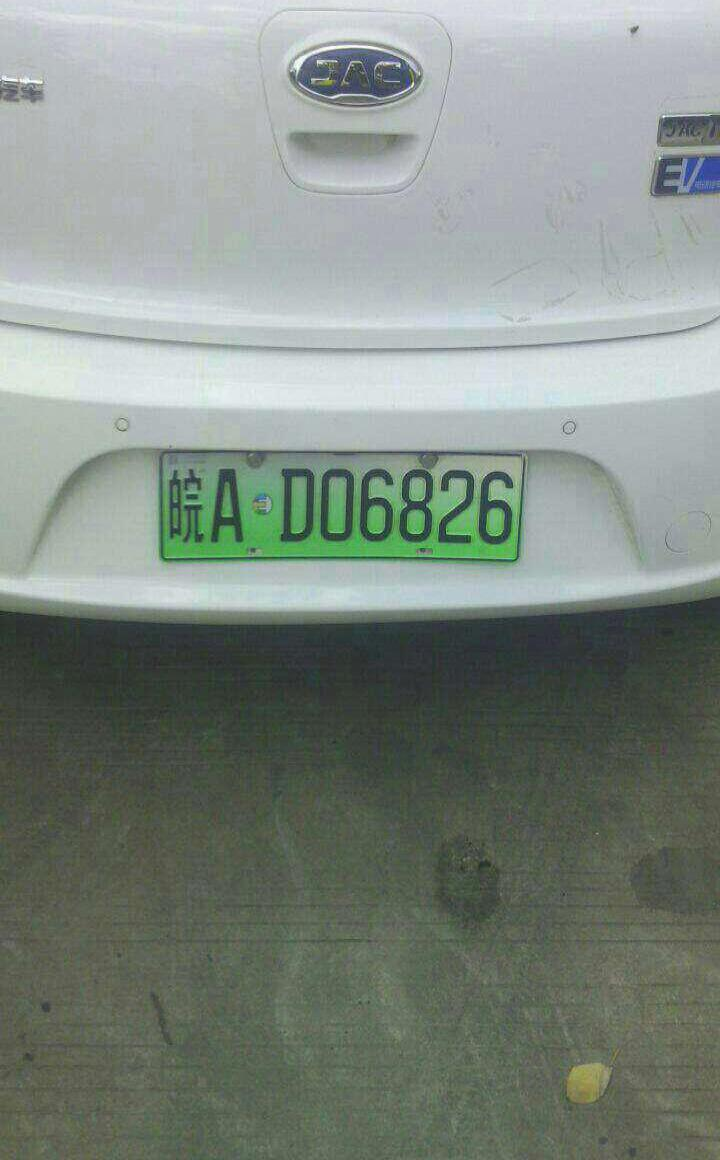car_id: (157, 453, 523, 562)
